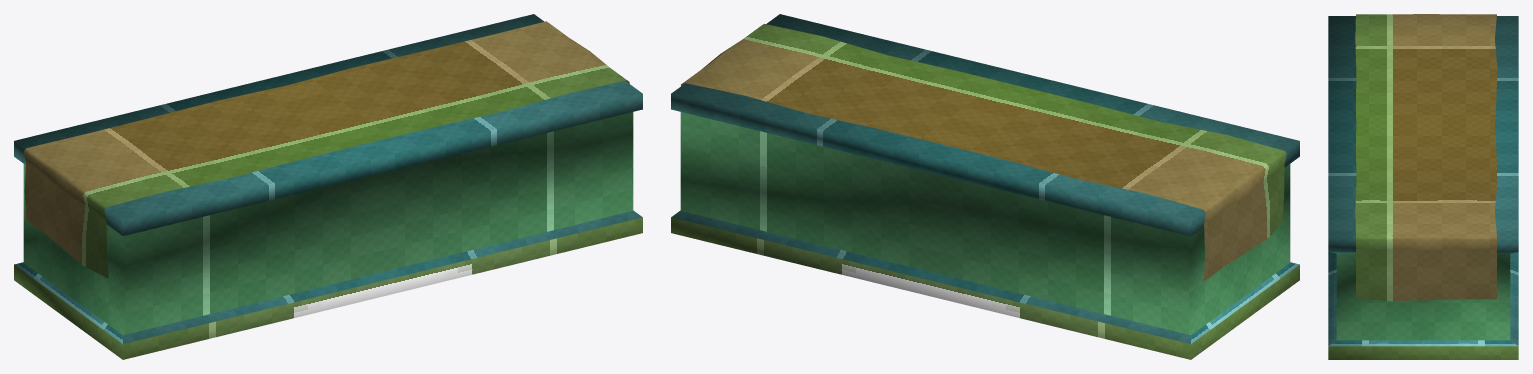
Rendered from aventine_shop_table_00.glb.
3 views of the same model, side by side, from view 1: azimuth 30°, elevation 25°; view 2: azimuth 150°, elevation 25°; view 3: azimuth 270°, elevation 25° (orthographic). The views are drawn at different scales.
Parts seen in each view (by area): view 1: Cube, Plane; view 2: Cube, Plane; view 3: Plane, Cube.
Part boxes in pixels (x1,y1,x2,y2): Cube: (14,14,642,359); Plane: (24,21,629,278); Cube: (671,14,1299,359); Plane: (681,24,1286,281); Plane: (1355,14,1497,301); Cube: (1328,16,1518,359).
Size of the model in its own units: 2.78 by 0.7165 by 0.9918.
Materials: 1 (1 with a texture image).
